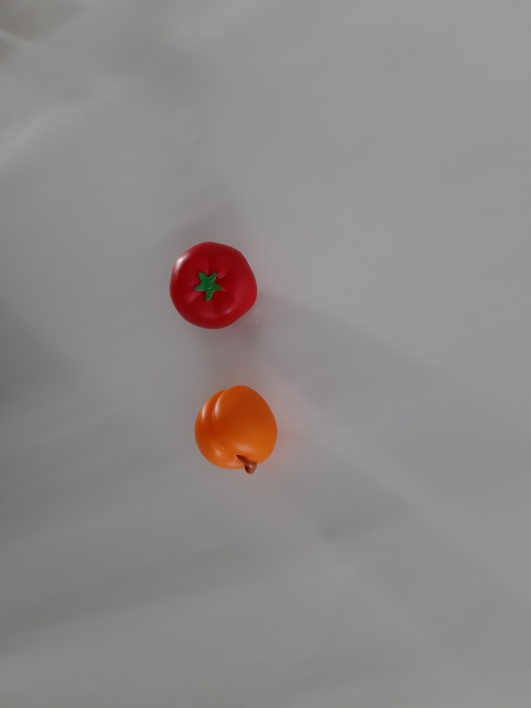apricot: (172, 375, 310, 493)
tomato: (150, 233, 275, 341)
